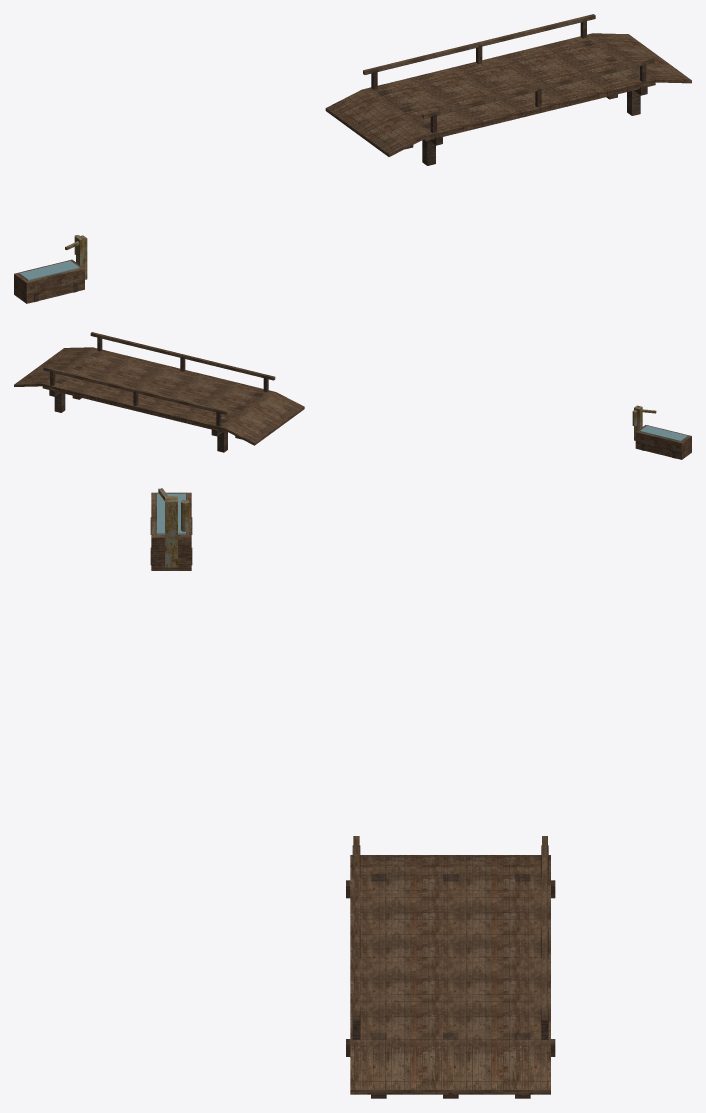
Rendered from creek_bridge_trough.glb.
3 views of the same model, one above another, from view 1: azimuth 30°, elevation 25°; view 2: azimuth 150°, elevation 25°; view 3: azimuth 270°, elevation 25° (orthographic). The views are drawn at different scales.
Visible parts, largest first — view 1: ApproachPlank (×5), TroughBody, BridgeRail1, BridgeRail-1, DeckPlank0, DeckPlank14, DeckPlank6, DeckPlank19, DeckPlank17, DeckPlank5, DeckPlank8, DeckPlank18 (+17 smaller); view 2: ApproachPlank (×9), TroughBody, BridgeRail1, BridgeRail-1, DeckPlank0, DeckPlank15, DeckPlank20, DeckPlank6, DeckPlank17, DeckPlank9, DeckPlank4, DeckPlank5 (+19 smaller); view 3: ApproachPlank (×5), DeckPlank2, DeckPlank11, DeckPlank0, DeckPlank23, TroughBody, DeckPlank3, DeckPlank5, DeckPlank14, DeckPlank16, DeckPlank4, DeckPlank6 (+17 smaller).
Boxes of the visible parts, x1,y1,x2,y2 form: ApproachPlank (×5): (325, 89, 424, 156); TroughBody: (14, 259, 84, 303); BridgeRail1: (422, 57, 654, 118); BridgeRail-1: (363, 14, 595, 74); DeckPlank0: (362, 87, 434, 141); DeckPlank14: (497, 54, 569, 108); DeckPlank6: (420, 73, 492, 126); DeckPlank19: (545, 43, 617, 96); DeckPlank17: (526, 47, 597, 101); DeckPlank5: (410, 75, 482, 129); DeckPlank8: (439, 68, 511, 122); DeckPlank18: (535, 45, 607, 98); ApproachPlank (×9): (14, 347, 304, 445); TroughBody: (635, 425, 691, 459); BridgeRail1: (90, 332, 275, 380); BridgeRail-1: (43, 366, 228, 414); DeckPlank0: (218, 390, 275, 432); DeckPlank15: (103, 362, 160, 404); DeckPlank20: (65, 353, 122, 395); DeckPlank6: (172, 379, 229, 421); DeckPlank17: (88, 358, 145, 401); DeckPlank9: (149, 373, 206, 415); DeckPlank4: (188, 382, 245, 425); DeckPlank5: (180, 381, 237, 423); ApproachPlank (×5): (350, 1046, 550, 1094); DeckPlank2: (350, 882, 550, 890); DeckPlank11: (350, 949, 550, 957); DeckPlank0: (350, 867, 550, 875); DeckPlank23: (350, 1039, 550, 1046); TroughBody: (151, 492, 191, 570); DeckPlank3: (350, 890, 550, 897); DeckPlank5: (350, 905, 550, 912); DeckPlank14: (350, 972, 550, 979); DeckPlank16: (350, 987, 550, 994); DeckPlank4: (350, 897, 550, 904); DeckPlank6: (350, 912, 550, 919).
Bounding box in the file's own units: 30.59 × 2.98 × 9.28.
Materials: 4 (3 with a texture image).
